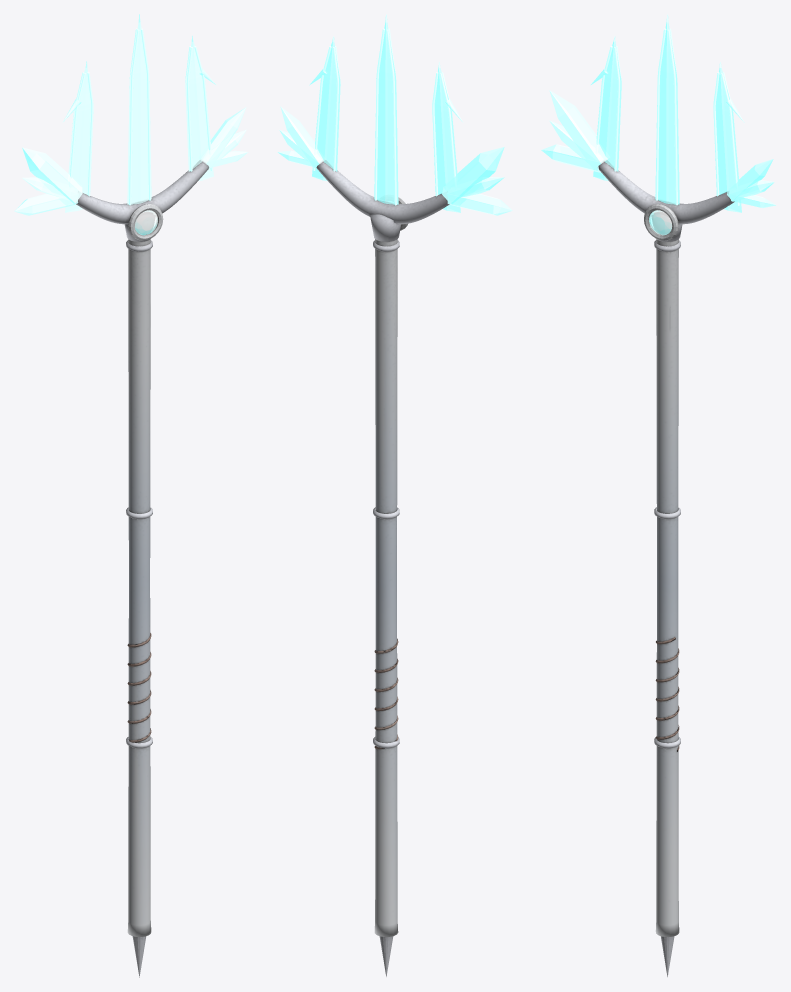
File: arma_lend_garfo_gelo.glb
3 renders of one model, left to right at view 1: azimuth 30°, elevation 25°; view 2: azimuth 150°, elevation 25°; view 3: azimuth 330°, elevation 25°, orthographic.
Parts seen in each view (by area): view 1: arma_lend_garfo_gelo, dente0.00, dente0.17, dente-0.17, ac_garfo-12, ac_garfo12, ac_garfo-10, ac_garfo-11, ac_garfo11, gume0.00-1; view 2: arma_lend_garfo_gelo, dente0.00, dente0.17, dente-0.17, ac_garfo-12, ac_garfo12, ac_garfo-10, ac_garfo-11, ac_garfo11, gume0.00-1b; view 3: arma_lend_garfo_gelo, dente0.00, dente0.17, dente-0.17, ac_garfo-12, ac_garfo-10, ac_garfo-11, ac_garfo12, ac_garfo11, gume0.001.
Part boxes in pixels (bbox=[...]): arma_lend_garfo_gelo: bbox=[76, 160, 208, 977]; dente0.00: bbox=[127, 14, 151, 204]; dente0.17: bbox=[185, 36, 213, 181]; dente-0.17: bbox=[65, 61, 92, 212]; ac_garfo-12: bbox=[22, 147, 82, 204]; ac_garfo12: bbox=[200, 107, 246, 167]; ac_garfo-10: bbox=[14, 188, 78, 215]; ac_garfo-11: bbox=[22, 177, 78, 199]; ac_garfo11: bbox=[204, 129, 246, 168]; gume0.00-1: bbox=[129, 29, 139, 205]; arma_lend_garfo_gelo: bbox=[316, 160, 449, 976]; dente0.00: bbox=[374, 14, 398, 204]; dente0.17: bbox=[312, 36, 340, 181]; dente-0.17: bbox=[433, 61, 460, 212]; ac_garfo-12: bbox=[442, 147, 504, 204]; ac_garfo12: bbox=[280, 106, 325, 168]; ac_garfo-10: bbox=[447, 193, 512, 215]; ac_garfo-11: bbox=[447, 177, 504, 197]; ac_garfo11: bbox=[279, 129, 321, 168]; gume0.00-1b: bbox=[386, 29, 396, 205]; arma_lend_garfo_gelo: bbox=[598, 160, 734, 976]; dente0.00: bbox=[655, 14, 679, 204]; dente0.17: bbox=[714, 62, 741, 212]; dente-0.17: bbox=[593, 36, 621, 180]; ac_garfo-12: bbox=[549, 90, 609, 169]; ac_garfo-10: bbox=[541, 144, 600, 172]; ac_garfo-11: bbox=[549, 120, 603, 168]; ac_garfo12: bbox=[727, 159, 773, 201]; ac_garfo11: bbox=[729, 180, 774, 201]; gume0.001: bbox=[667, 29, 677, 205].
Bounding box in the file's own units: 0.6446 × 2.52 × 0.0809.
Materials: 25 (1 with a texture image).
